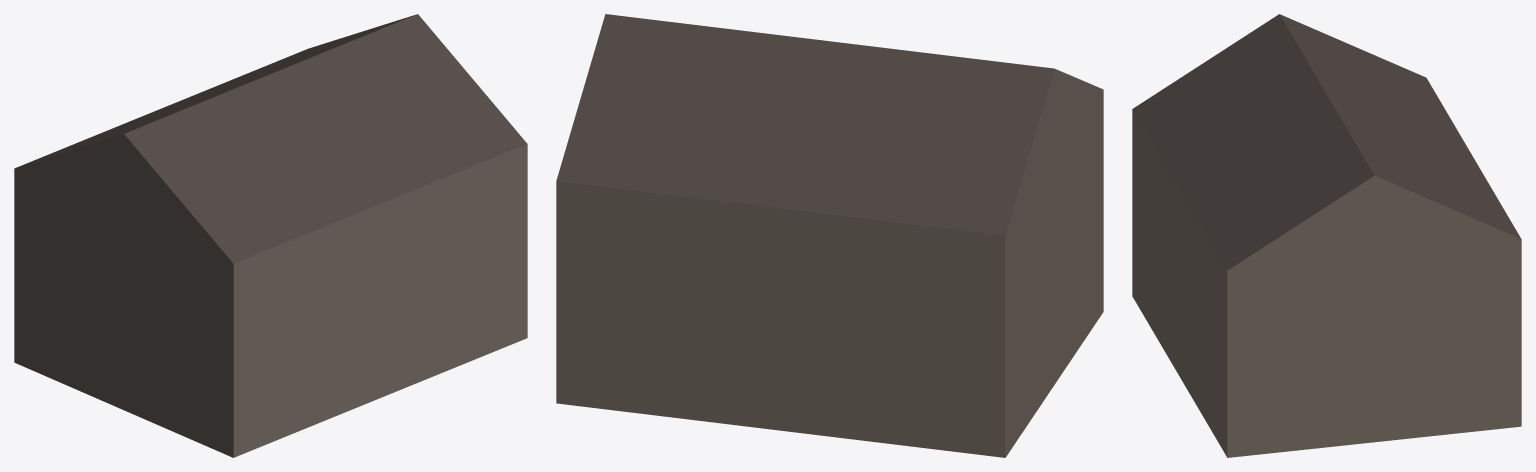
3 renders of one model, left to right at view 1: azimuth 30°, elevation 25°; view 2: azimuth 150°, elevation 25°; view 3: azimuth 270°, elevation 25°, orthographic. The views are drawn at different scales.
Visible parts, largest first — view 1: HP-w408450780; view 2: HP-w408450780; view 3: HP-w408450780.
Part boxes in pixels (<box>): HP-w408450780: <box>14,14,527,457</box>; HP-w408450780: <box>556,14,1103,457</box>; HP-w408450780: <box>1132,14,1521,457</box>.
Size of the model in its own units: 13.25 by 8.54 by 11.3.
